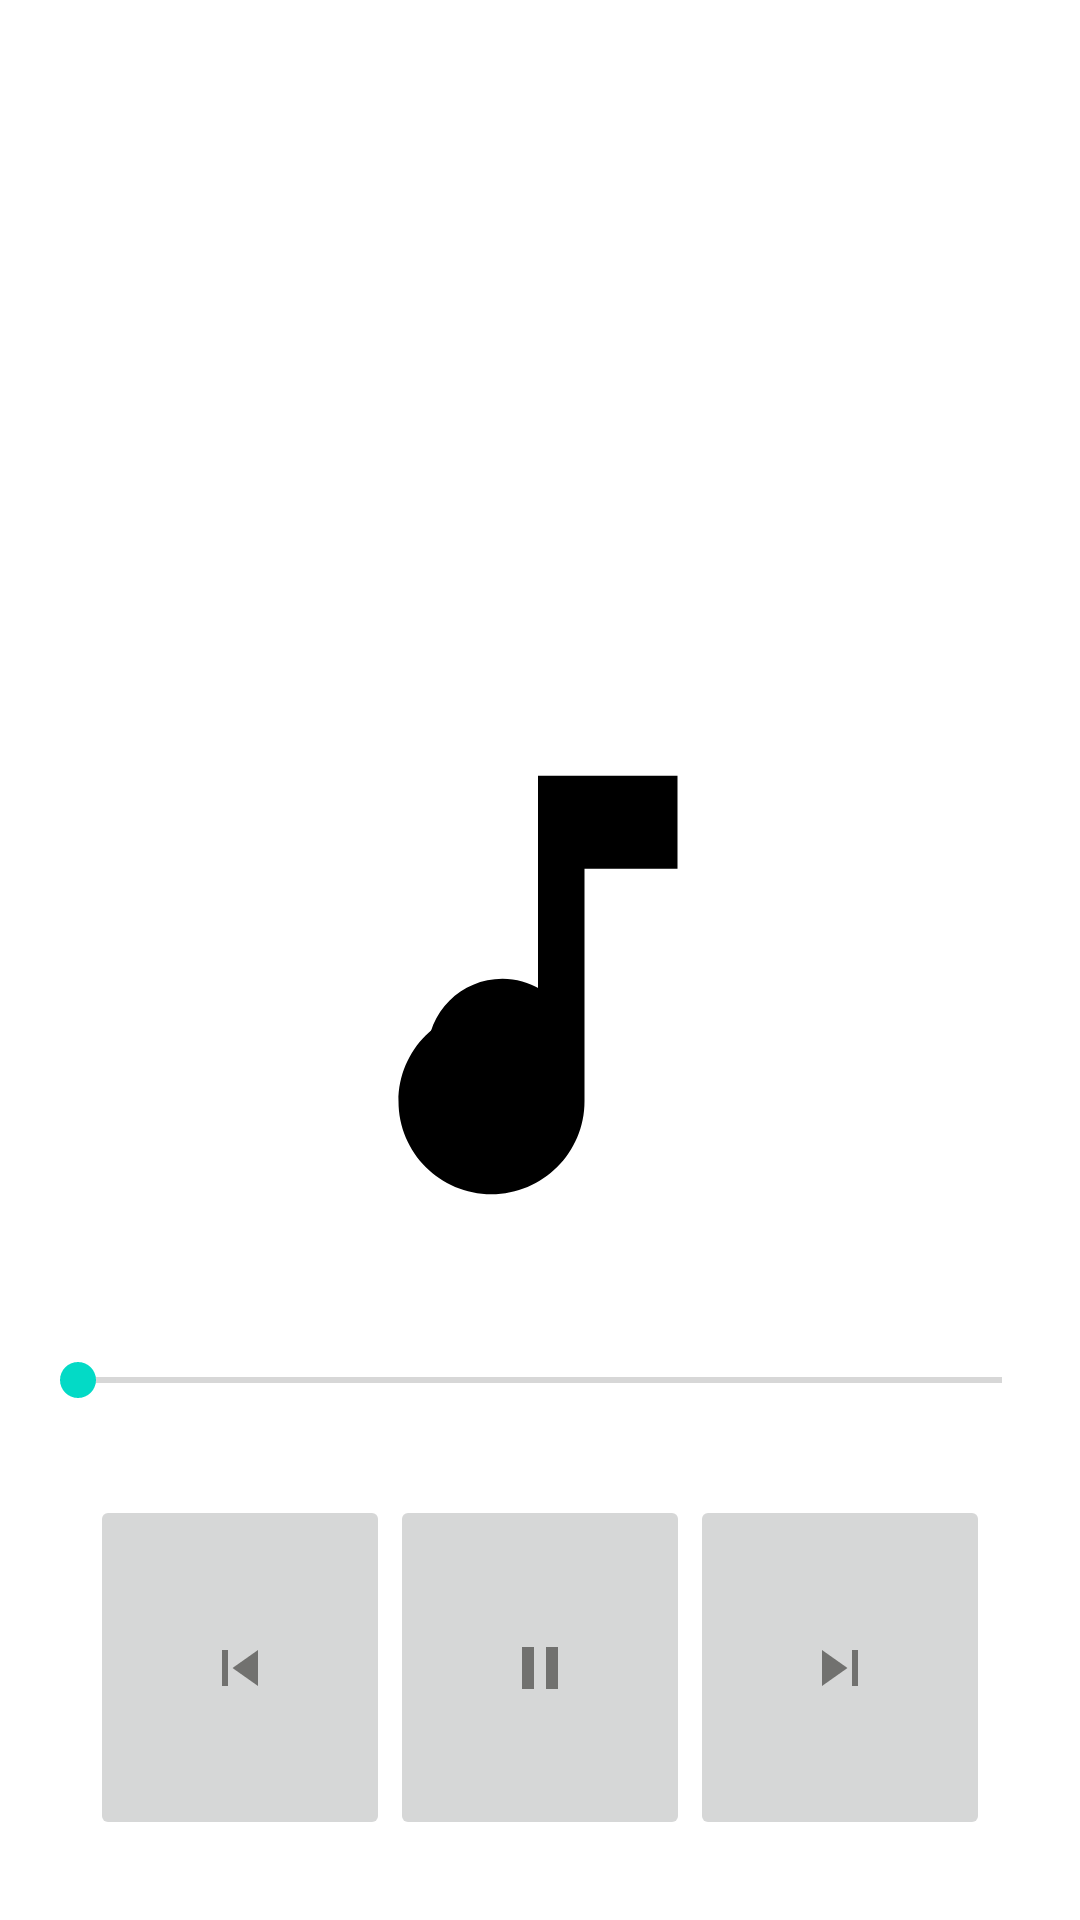

Icon click points for this 1080px×1920px phone screenshot, format point (x, y):
next: point (840, 1667)
pause: point (540, 1667)
previous: point (240, 1667)
